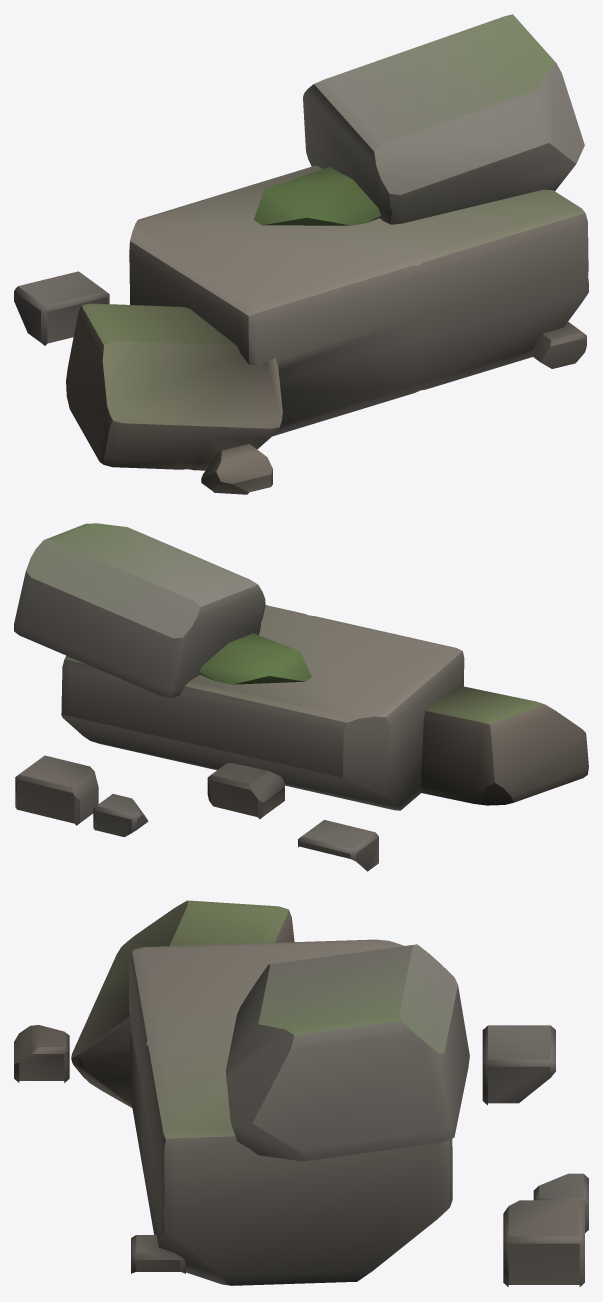
The model's file is ruins-rubble-b-v1.glb.
3 views of the same model, one above another, from view 1: azimuth 30°, elevation 25°; view 2: azimuth 150°, elevation 25°; view 3: azimuth 270°, elevation 25° (orthographic). The views are drawn at different scales.
Parts seen in each view (by area): view 1: 0_ruins_rubble_1; view 2: 0_ruins_rubble_1; view 3: 0_ruins_rubble_1.
Part boxes in pixels (bbox=[...]): 0_ruins_rubble_1: bbox=[14, 14, 588, 494]; 0_ruins_rubble_1: bbox=[14, 523, 588, 871]; 0_ruins_rubble_1: bbox=[14, 900, 588, 1286].
Bounding box in the file's own units: 1.36 × 0.6289 × 1.08.
